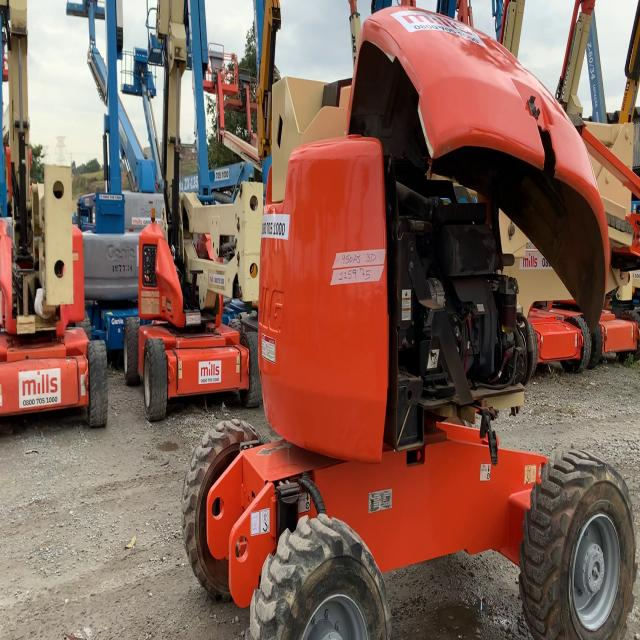Adesivos: (18, 367, 61, 410), (198, 359, 222, 385)
